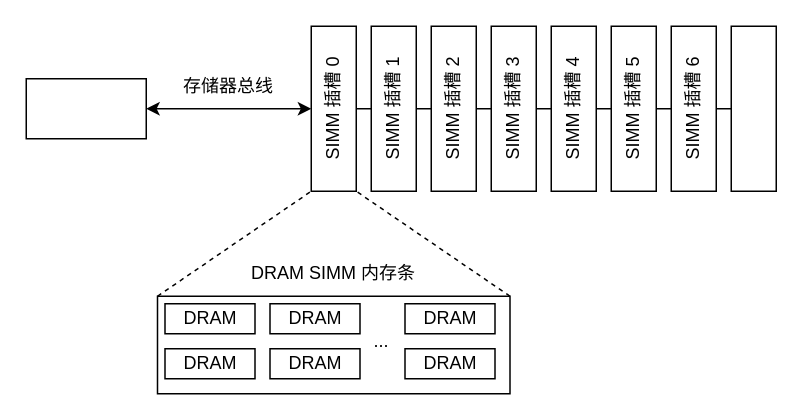
This 803x420 diagram has some shape labels left out. Here are the shapes that lost their labels. From the top down, the centre of each, then its label:
the point at 85,108: 存储 控制器
the point at 753,108: SIMM 插槽 7
